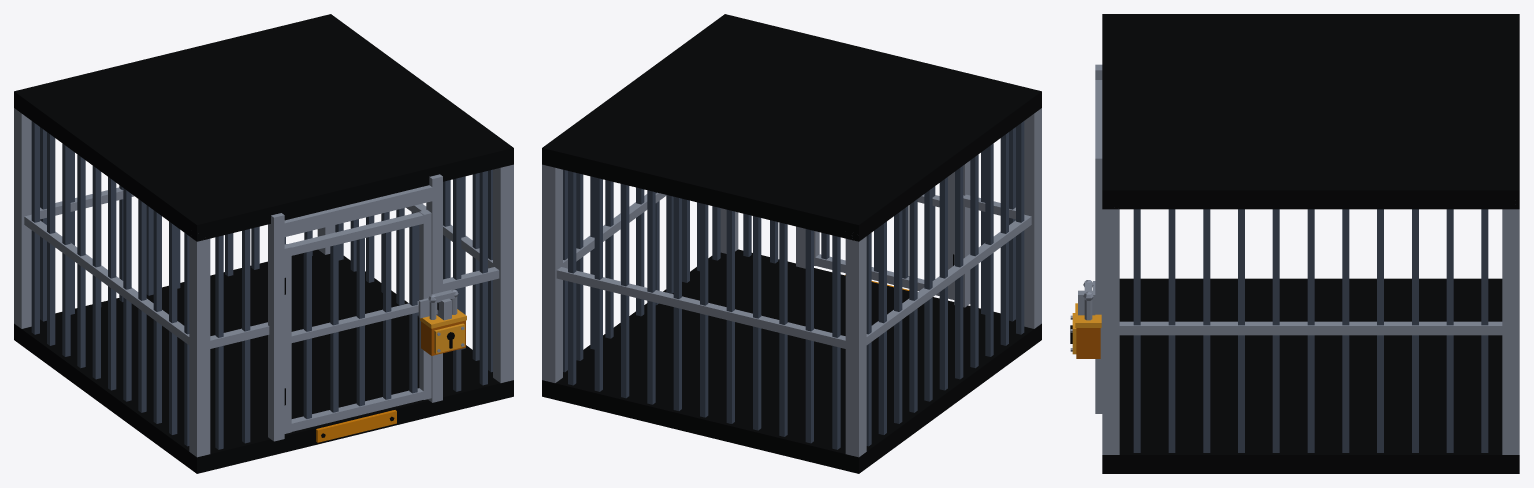
Rendered from SM_Cage_Anim.glb.
The picture shows the model from 3 angles, left to right: view 1: azimuth 30°, elevation 25°; view 2: azimuth 150°, elevation 25°; view 3: azimuth 270°, elevation 25°; orthographic projection. The views are drawn at different scales.
Visible parts, largest first — view 1: Cage_Body-col, Cage_Door, Cage_Lock; view 2: Cage_Body-col, Cage_Door; view 3: Cage_Body-col, Cage_Lock.
Boxes of the visible parts, x1,y1,x2,y2 form: Cage_Body-col: (14, 14, 513, 473); Cage_Door: (284, 210, 438, 433); Cage_Lock: (420, 289, 466, 355); Cage_Body-col: (542, 14, 1041, 473); Cage_Door: (814, 172, 954, 299); Cage_Body-col: (1078, 14, 1519, 473); Cage_Lock: (1070, 280, 1101, 358).
Bounding box in the file's own units: 1.2 × 0.9 × 1.29.
